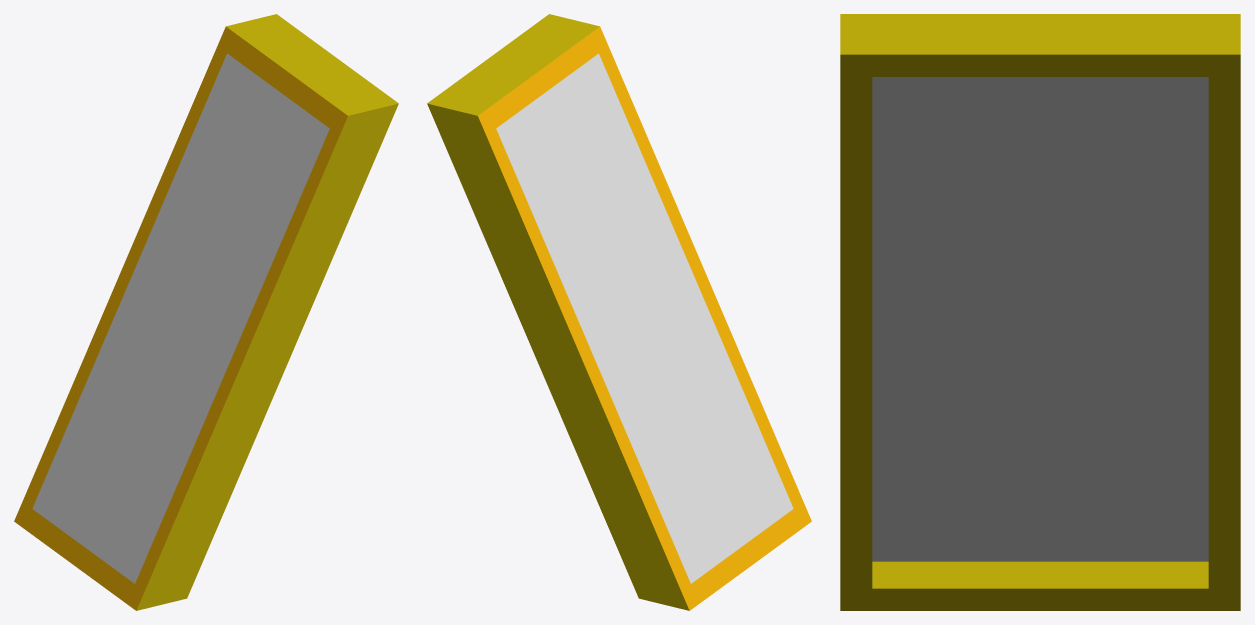
Rendered from window_slanted_1x1x2.dae.
3 views of the same model, side by side, from view 1: azimuth 30°, elevation 25°; view 2: azimuth 150°, elevation 25°; view 3: azimuth 270°, elevation 25° (orthographic). The views are drawn at different scales.
Visible parts, largest first — view 1: Cube; view 2: Cube; view 3: Cube.
Boxes of the visible parts, box(x1,y1,x2,y2) form: Cube: box(14, 14, 398, 610); Cube: box(427, 14, 811, 610); Cube: box(840, 14, 1240, 610).
Size of the model in its own units: 0.31 by 0.25 by 0.5.
